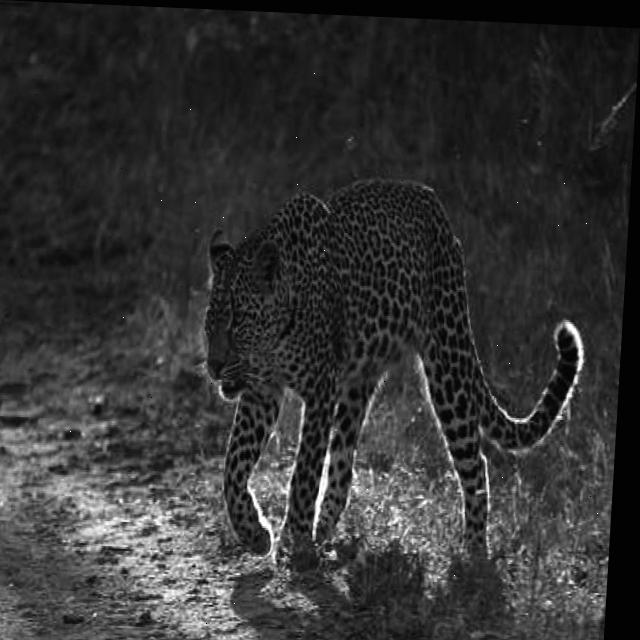Leopard: (156, 176, 587, 617)
